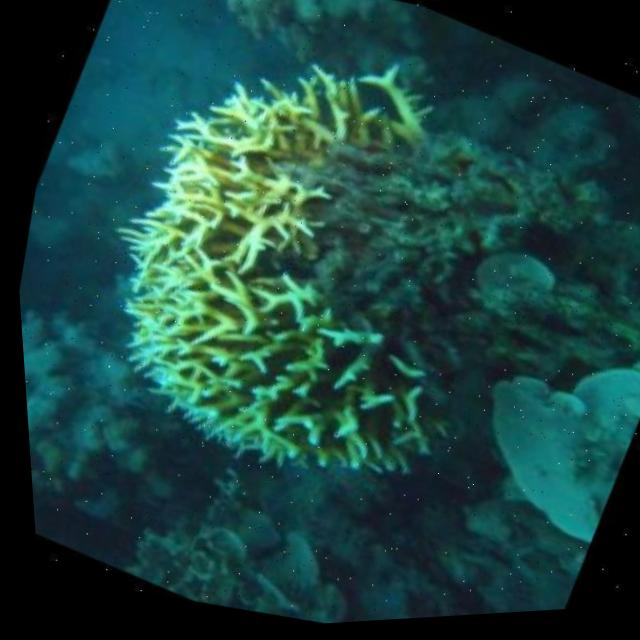Bleached Coral: (23, 0, 632, 582)
